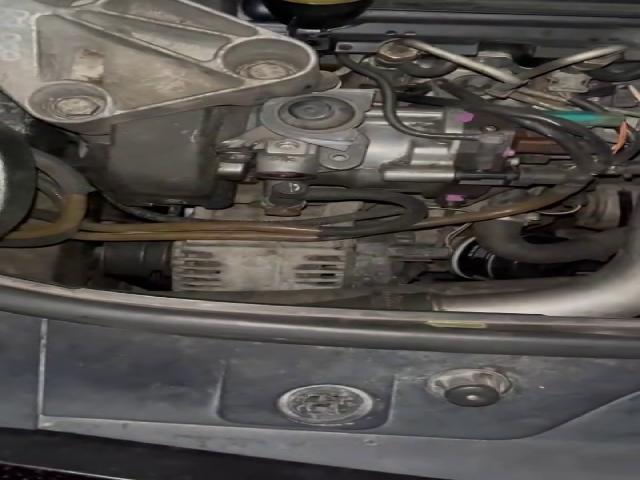alternator: (170, 239, 356, 292)
high_pressure_pump: (252, 107, 523, 206)
